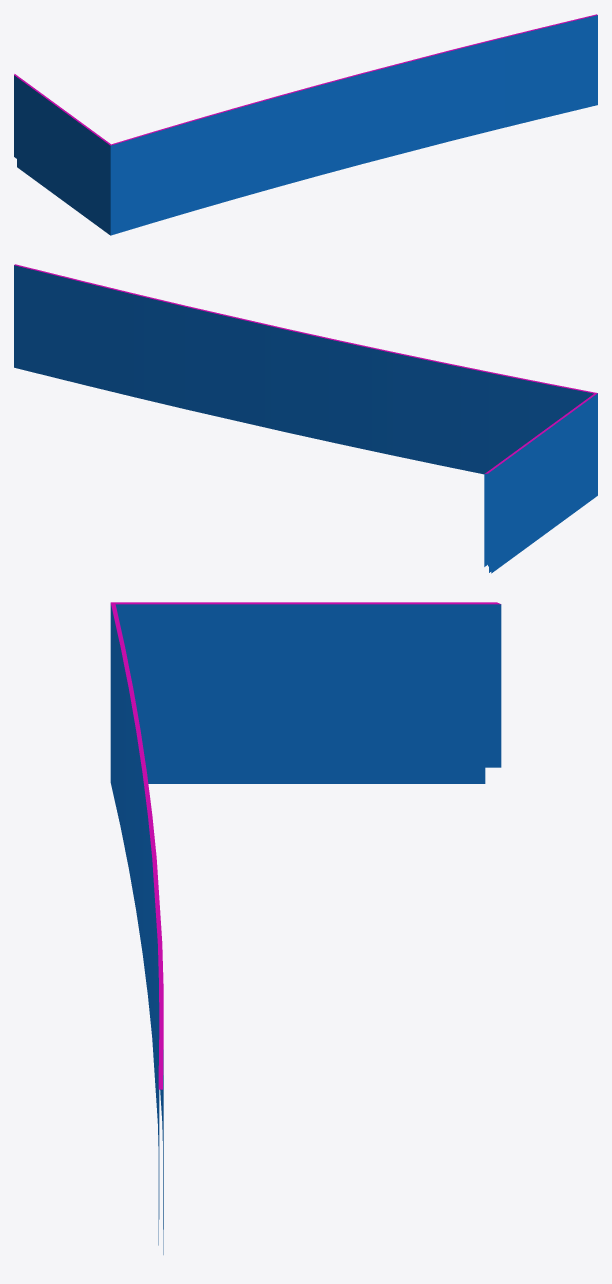
The model's file is Railing.FBX.
3 renders of one model, top to bottom at view 1: azimuth 30°, elevation 25°; view 2: azimuth 150°, elevation 25°; view 3: azimuth 270°, elevation 25°, orthographic. The views are drawn at different scales.
Parts seen in each view (by area): view 1: Railing_Glass; view 2: Railing_Glass; view 3: Railing_Glass.
Boxes of the visible parts, box(x1,y1,x2,y2) form: Railing_Glass: box(14, 14, 597, 235); Railing_Glass: box(14, 264, 597, 573); Railing_Glass: box(110, 602, 501, 1254).
Size of the model in its own units: 6.39 by 1.1 by 2.17.
